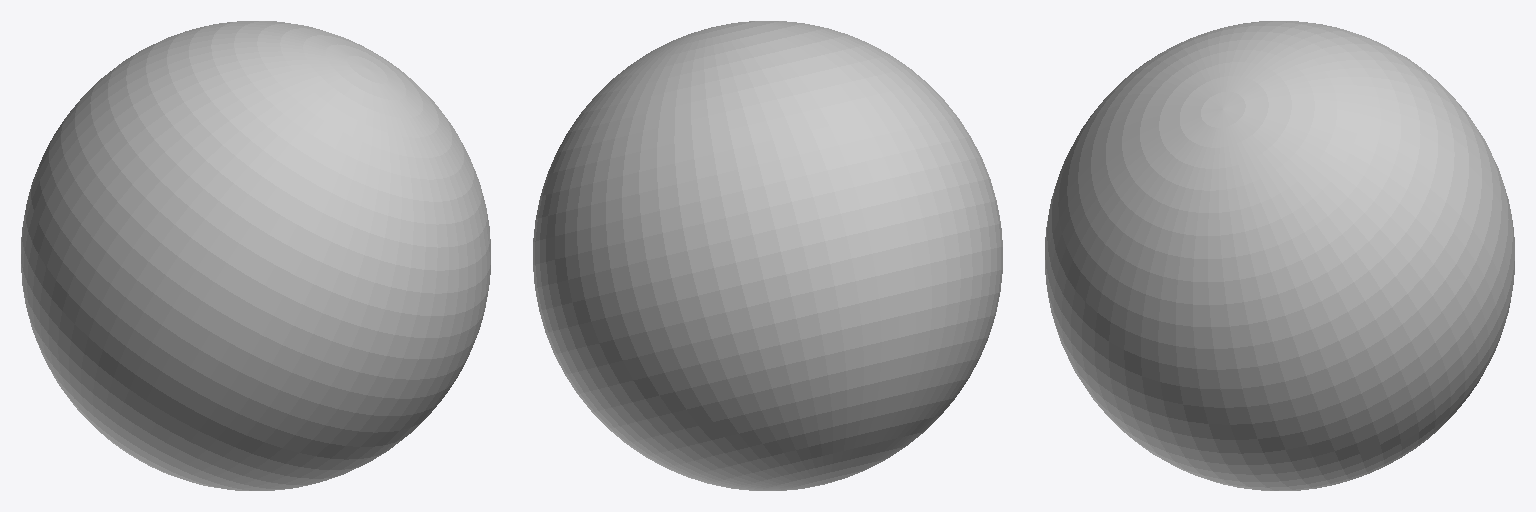
The model's file is jupiter.obj.
3 views of the same model, side by side, from view 1: azimuth 30°, elevation 25°; view 2: azimuth 150°, elevation 25°; view 3: azimuth 270°, elevation 25° (orthographic).
Visible parts, largest first — view 1: Sphere; view 2: Sphere; view 3: Sphere.
Part boxes in pixels (x1,y1,x2,y2): Sphere: (21, 21, 490, 490); Sphere: (533, 21, 1002, 490); Sphere: (1045, 21, 1514, 490).
Bounding box in the file's own units: 2 × 2 × 2.